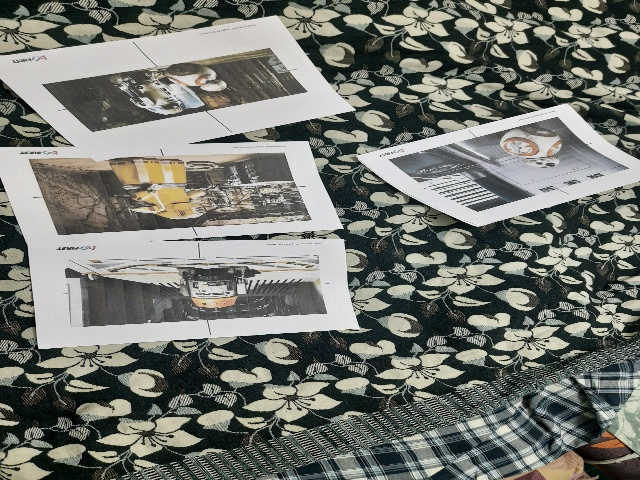bpt1: (375, 122, 640, 209)
fpt2: (24, 57, 346, 120)
rept2: (42, 243, 369, 328)
rpt2: (20, 148, 340, 231)
